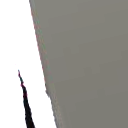crackTip: (12, 69, 44, 128)
